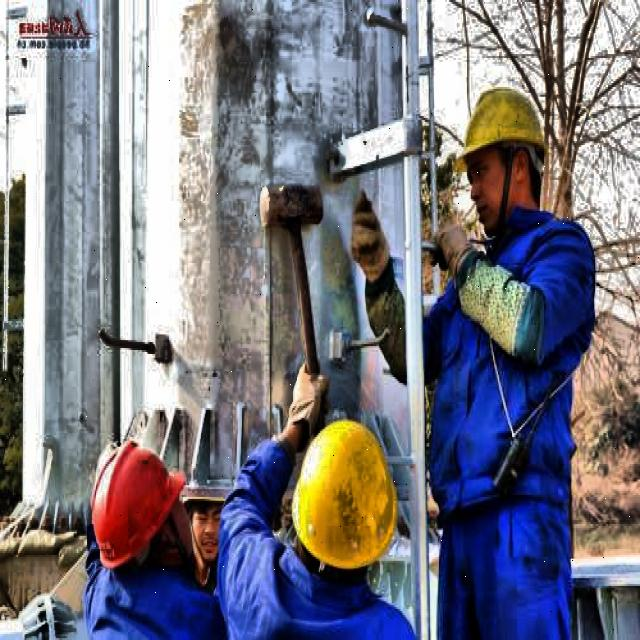helmet: (284, 412, 407, 592), (446, 64, 552, 245), (82, 435, 198, 584)
